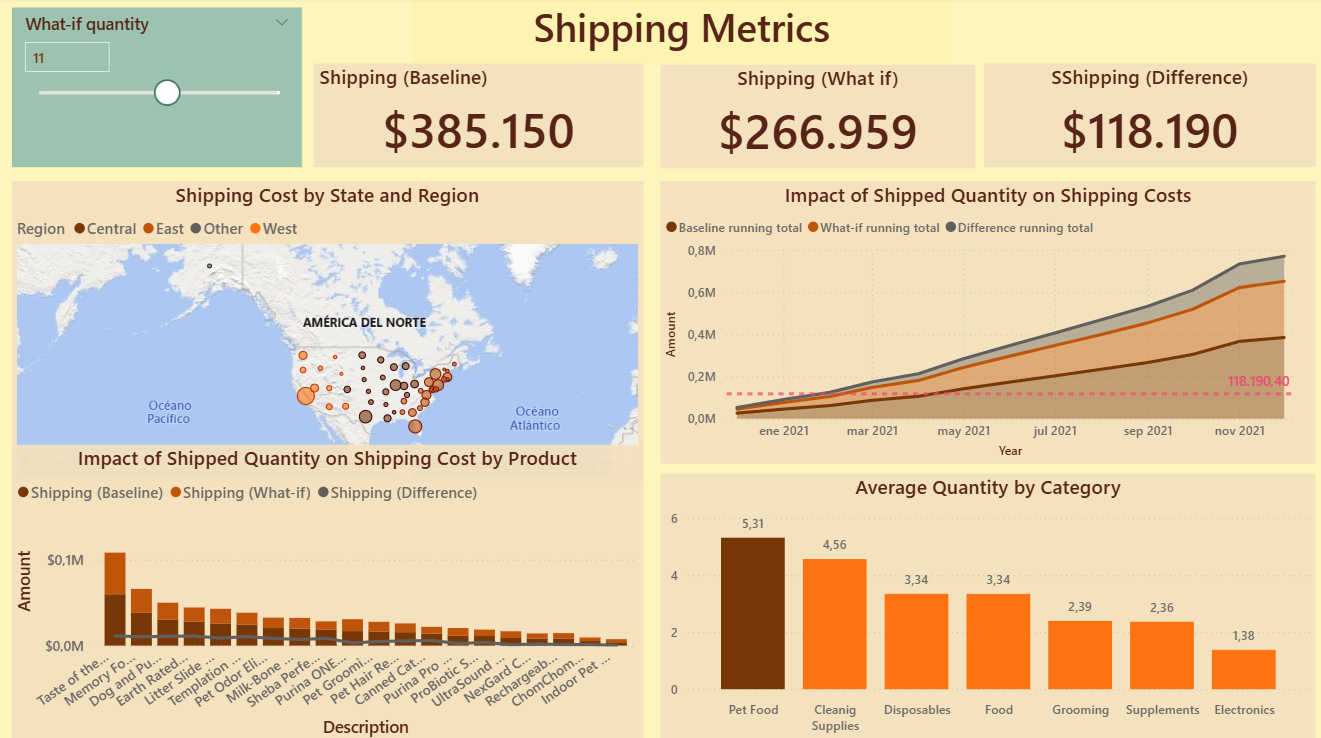

What the dashboard file says about the page in this screenshot:
{"tool":"powerbi","page":{"name":"Shipping metrics","canvas":[1280,720],"ordinal":1},"visuals":[{"type":"slicer","fields":{"Values":["What-if quantity.What-if quantity"]},"box":[13.3,10.9,279.9,154.4],"z":0},{"type":"card","title":"Shipping (Baseline)","fields":{"Values":["Sales.Shipping (Baseline)"]},"box":[305.2,65.1,317.3,100.1],"z":1000},{"type":"card","title":"Shipping (What if)","fields":{"Values":["Sales.Shipping (What-if)"]},"box":[639.4,66.4,304,100.1],"z":2000},{"type":"card","title":"SShipping (Difference)","fields":{"Values":["Sales.Shipping (Difference)"]},"box":[951.9,65.1,319.7,100.1],"z":3000},{"type":"stackedAreaChart","title":"Impact of Shipped Quantity on Shipping Costs","fields":{"Y":["Sales.Baseline running total","Sales.What-if running total","Sales.Difference running total"],"Category":["Sales.Transaction Date.Variation.Date Hierarchy.Year","Sales.Transaction Date.Variation.Date Hierarchy.Month"]},"box":[639.4,178.6,632.2,272.7],"z":5000},{"type":"columnChart","title":"Average Quantity by Category","fields":{"Category":["Products.Category"],"Y":["Avg(Sales.Quantity)"]},"box":[639.4,460.9,632.2,259.4],"z":6000},{"type":"map","title":"Shipping Cost by State and Region","fields":{"Category":["State Mapping.State"],"Series":["State Mapping.Region"],"Size":["Sales.Shipping (Baseline)"]},"box":[13.3,178.6,609.3,290.8],"z":7000},{"type":"textbox","box":[399.3,0,521.2,65.1],"z":7001},{"type":"lineStackedColumnComboChart","title":"Impact of Shipped Quantity on Shipping Cost by Product","fields":{"Category":["Products.Description"],"Y":["Sales.Shipping (Baseline)","Sales.Shipping (What-if)"],"Y2":["Sales.Shipping (Difference)"]},"box":[13.3,432.9,609.3,287.1],"z":7002}]}

Visuals, with their boxes in screenshot pixels (x1, y1, x2, y2), scaled from the page's 1280x720 canvas onto the 1321x738 screenshot:
slicer - What-if quantity.What-if quantity: region(14, 11, 303, 169)
"Shipping (Baseline)" card: region(315, 67, 642, 169)
"Shipping (What if)" card: region(660, 68, 974, 171)
"SShipping (Difference)" card: region(982, 67, 1312, 169)
"Impact of Shipped Quantity on Shipping Costs" stackedAreaChart: region(660, 183, 1312, 463)
"Average Quantity by Category" columnChart: region(660, 472, 1312, 737)
"Shipping Cost by State and Region" map: region(14, 183, 643, 481)
textbox: region(412, 0, 950, 67)
"Impact of Shipped Quantity on Shipping Cost by Product" lineStackedColumnComboChart: region(14, 444, 643, 737)
